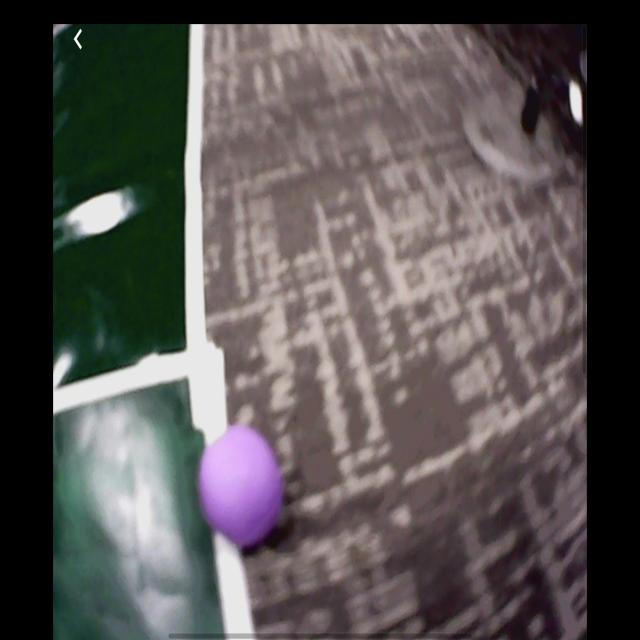ball: (197, 424, 285, 551)
